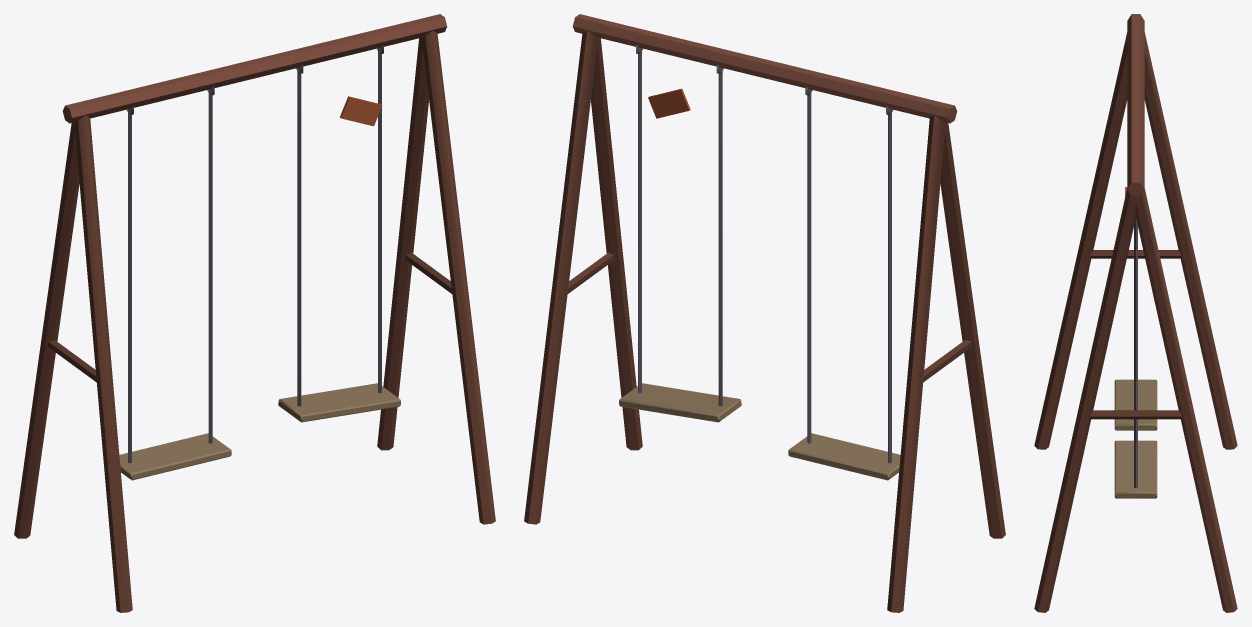
The model's file is swing_creaky.glb.
3 renders of one model, left to right at view 1: azimuth 30°, elevation 25°; view 2: azimuth 150°, elevation 25°; view 3: azimuth 270°, elevation 25°, orthographic. The views are drawn at different scales.
Parts seen in each view (by area): view 1: swing_creaky, swing0, swing1; view 2: swing_creaky, swing0, swing1; view 3: swing_creaky, swing1, swing0.
Part boxes in pixels (x1,y1,x2,y2): swing_creaky: (14,14,495,612); swing0: (119,86,231,480); swing1: (278,45,400,422); swing_creaky: (524,14,1005,612); swing0: (788,86,900,480); swing1: (619,45,741,422); swing_creaky: (1034,14,1237,612); swing1: (1114,218,1157,498); swing0: (1114,379,1157,430).
Bounding box in the file's own units: 1.86 × 2.21 × 0.9486.
